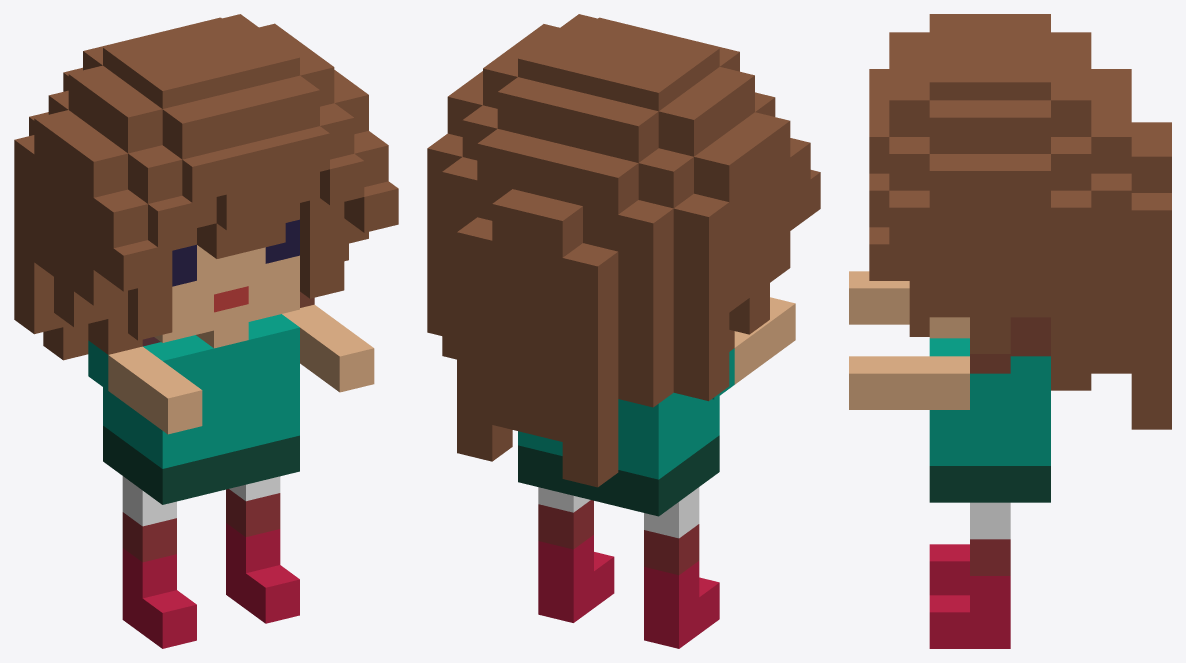
Rendered from Student_1.obj.
3 views of the same model, side by side, from view 1: azimuth 30°, elevation 25°; view 2: azimuth 150°, elevation 25°; view 3: azimuth 270°, elevation 25° (orthographic). The views are drawn at different scales.
Size of the model in its own units: 16 by 31 by 16.
1 material, 1 textured.
